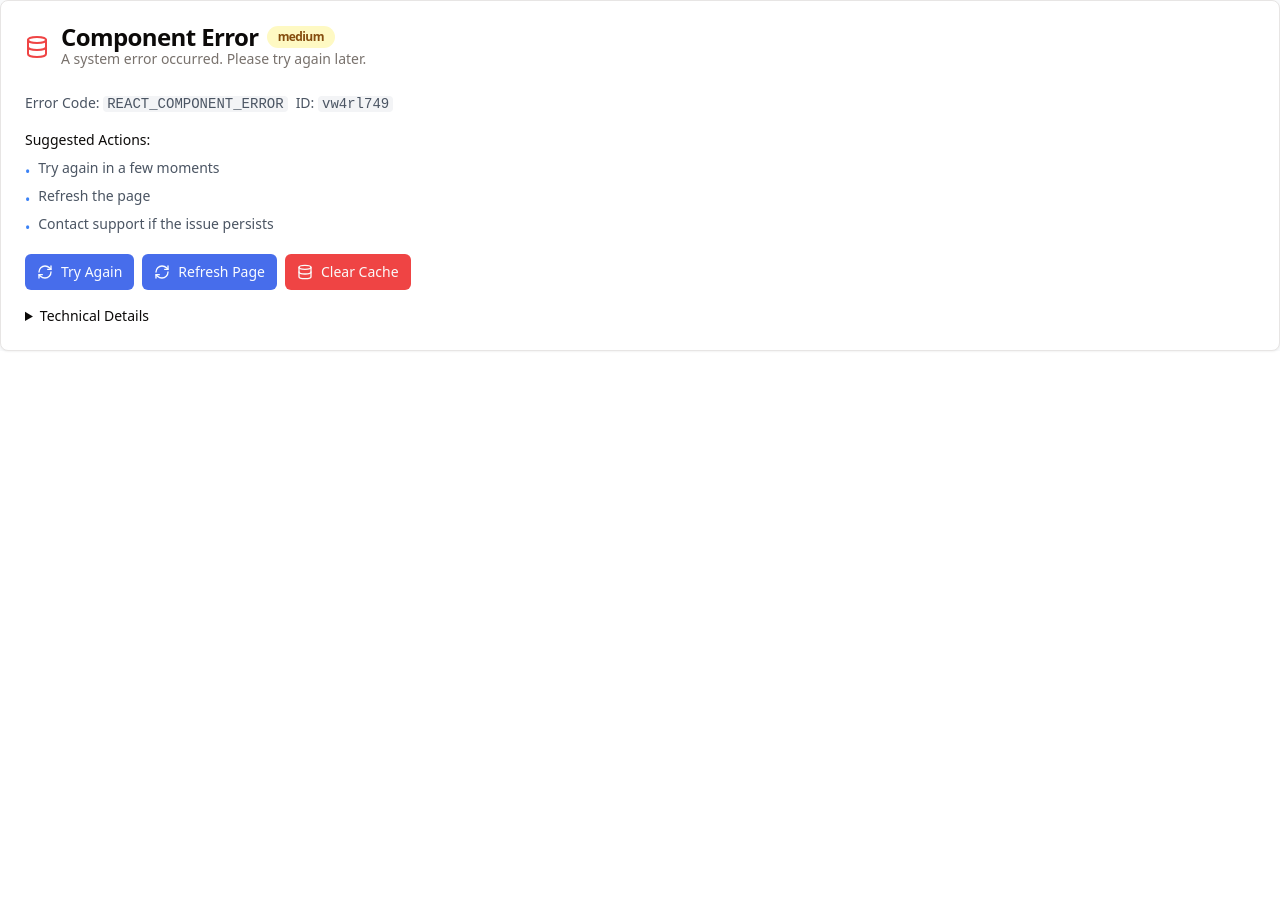
Test: ErrorBoundary Component › Technical Details › should show technical details in development mode
The width and height of the screenshot is (1280, 900).
Click the heading "Technical Details" at (94,316), box [40,306,149,325]
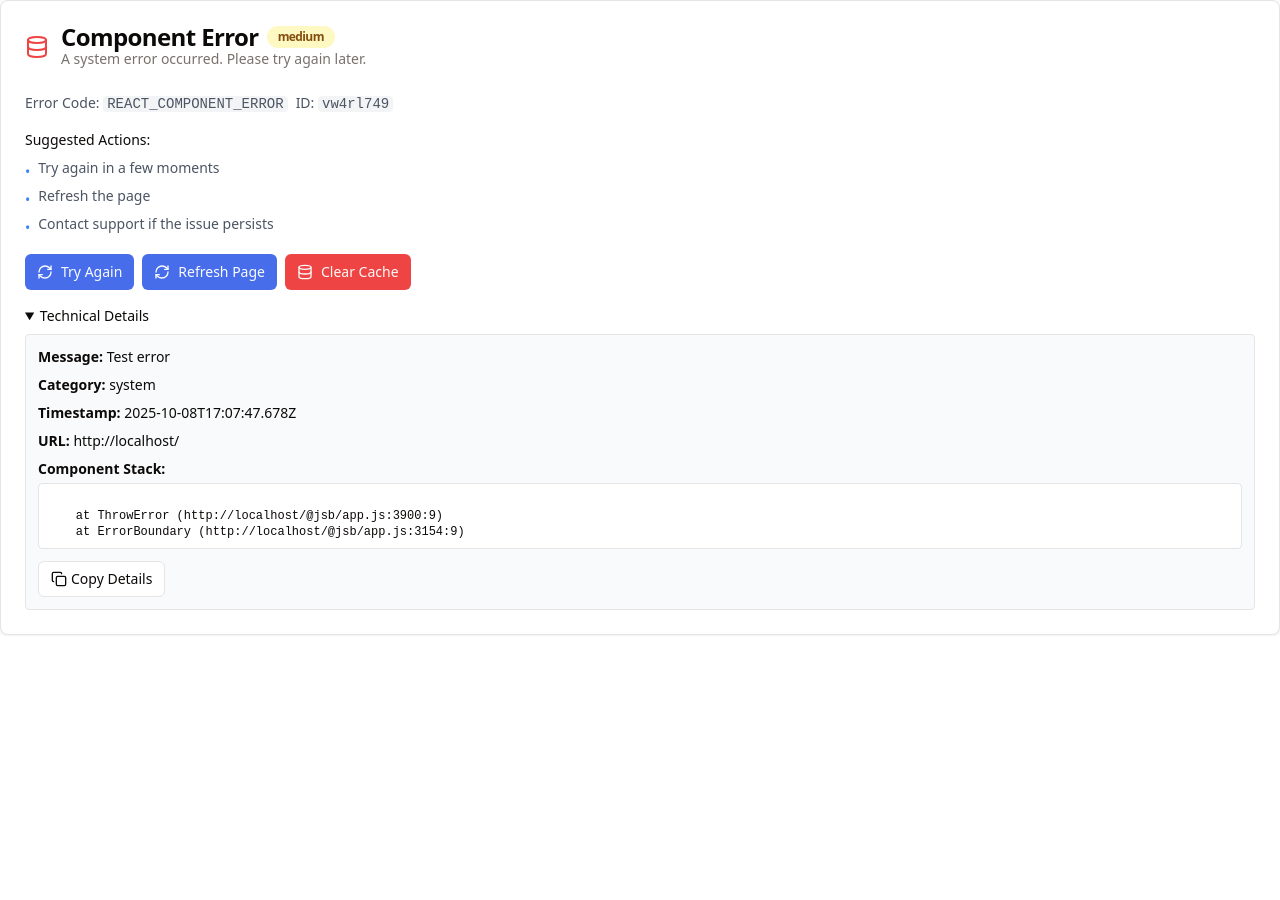
Check: the text "Message:" is shown, box [38,347,103,366]
Check: the text "Category:" is shown, box [38,375,106,394]
Check: the text "Timestamp:" is shown, box [38,403,120,422]
